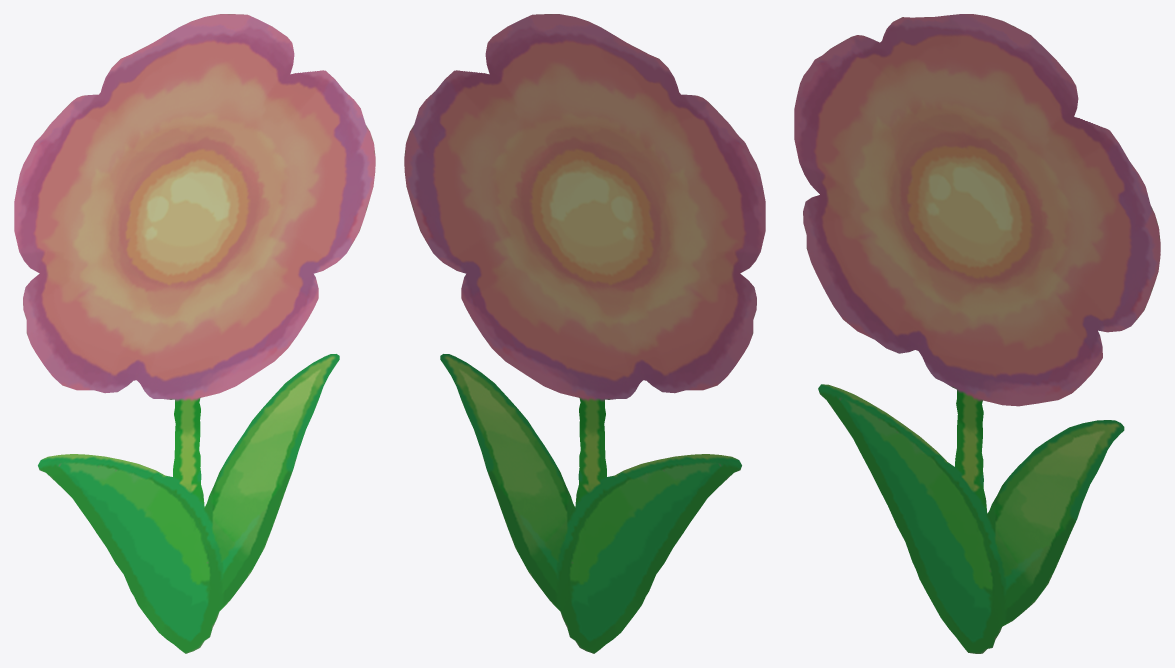
The model's file is Flower_Orange.obj.
3 renders of one model, left to right at view 1: azimuth 30°, elevation 25°; view 2: azimuth 150°, elevation 25°; view 3: azimuth 330°, elevation 25°, orthographic.
Parts seen in each view (by area): view 1: 平面; view 2: 平面; view 3: 平面.
Boxes of the visible parts, <box> form: 平面: <box>14,14,375,653</box>; 平面: <box>404,14,765,653</box>; 平面: <box>794,14,1160,653</box>.
Bounding box in the file's own units: 0.6144 × 1.03 × 0.
1 material, 1 textured.
